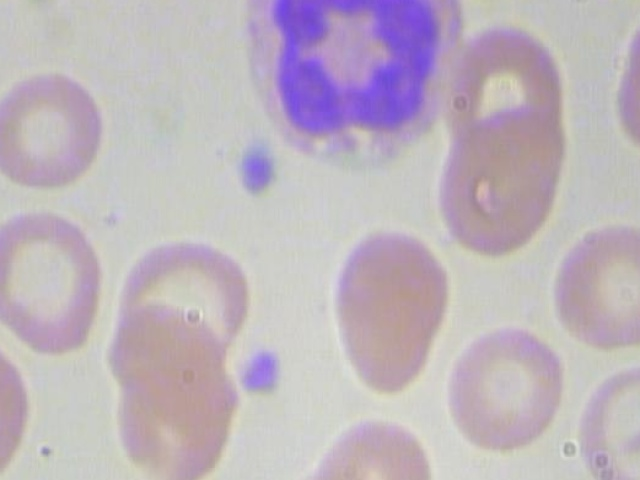Platelets: (223, 135, 288, 207), (231, 345, 281, 394)
RBC: (320, 217, 459, 398), (108, 302, 242, 480), (437, 102, 573, 263), (441, 317, 574, 455), (0, 203, 110, 362), (0, 61, 107, 199), (546, 217, 640, 354), (582, 0, 640, 158), (577, 360, 640, 480), (0, 337, 50, 480), (0, 0, 40, 11), (419, 0, 556, 3)
WBC: (234, 0, 466, 180)
